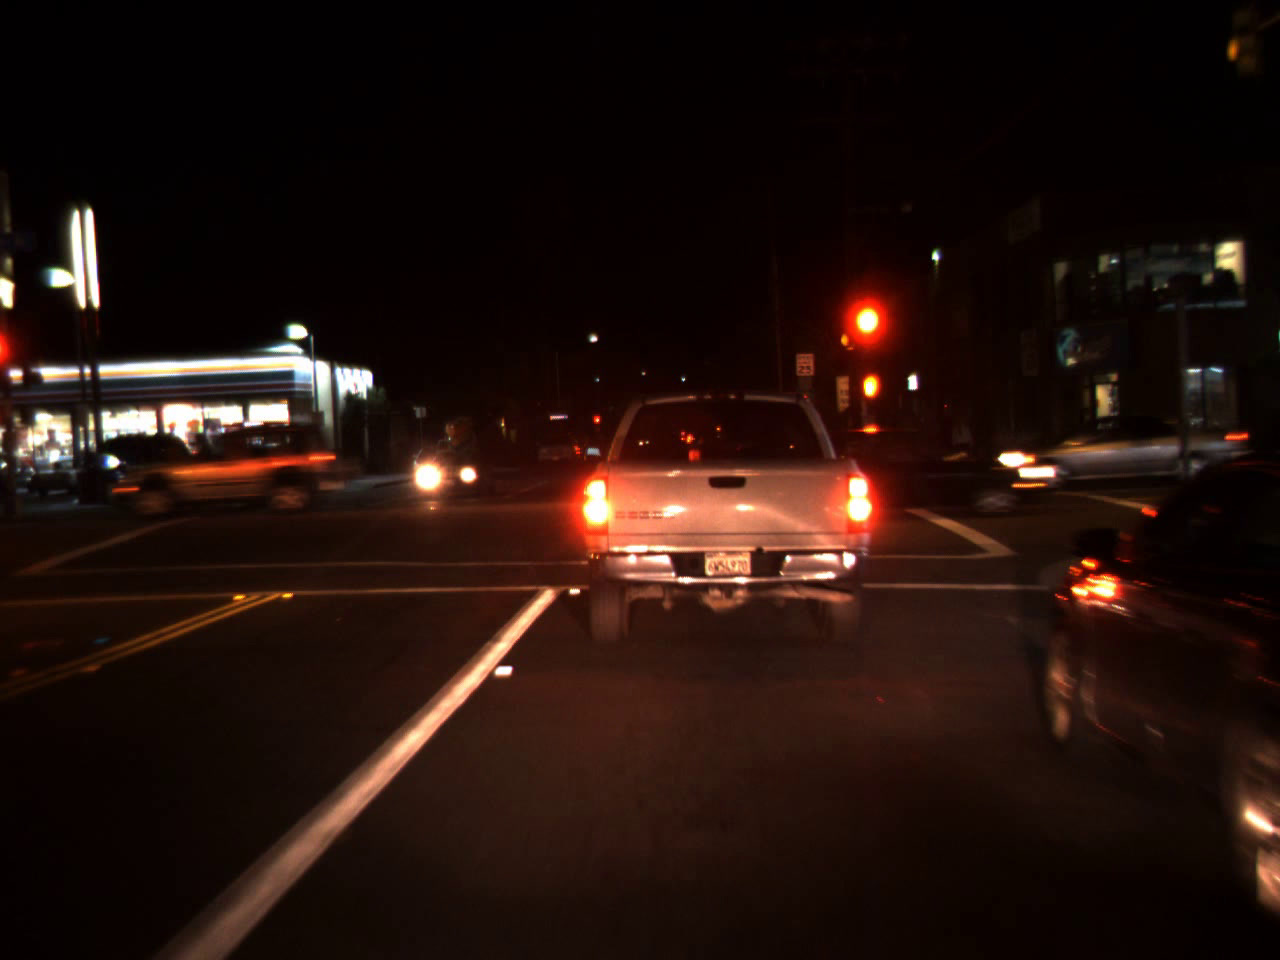stop: (850, 302, 886, 366), (592, 414, 601, 430)
